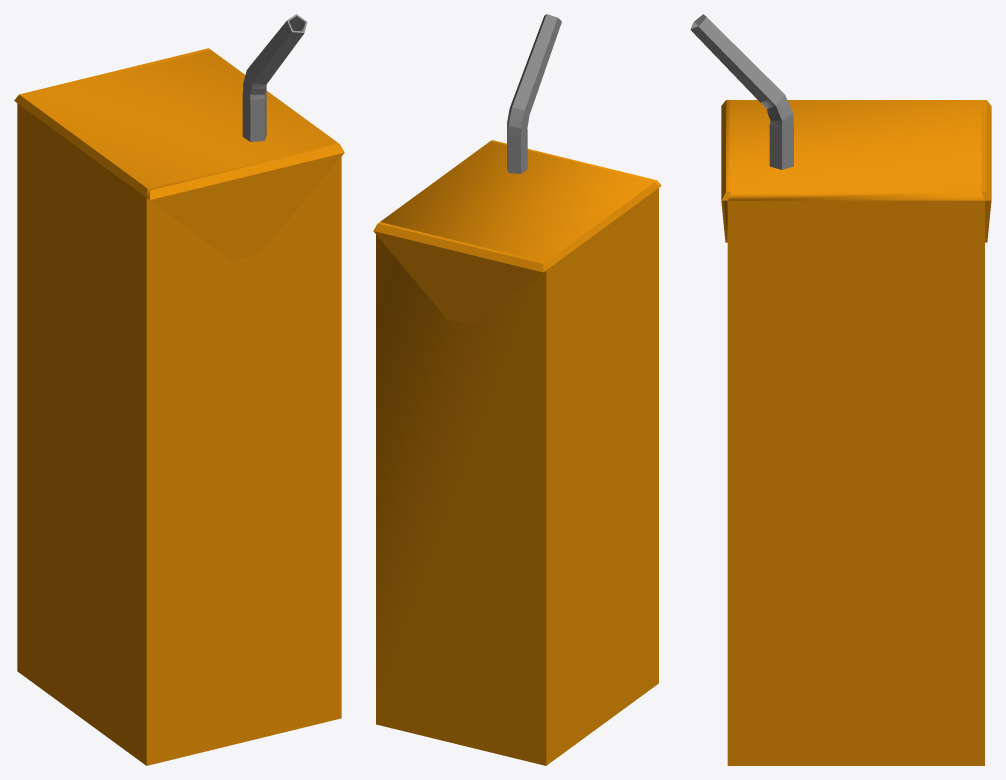
File: SM_KoolAid.fbx
3 renders of one model, left to right at view 1: azimuth 30°, elevation 25°; view 2: azimuth 150°, elevation 25°; view 3: azimuth 270°, elevation 25°, orthographic. The views are drawn at different scales.
Visible parts, largest first — view 1: SM_KoolAid; view 2: SM_KoolAid; view 3: SM_KoolAid.
Part boxes in pixels (box(x1,y1,x2,y2)): SM_KoolAid: box(14, 14, 344, 765); SM_KoolAid: box(373, 14, 661, 765); SM_KoolAid: box(690, 14, 991, 765).
Size of the model in its own units: 3.2 by 11.39 by 4.3.
